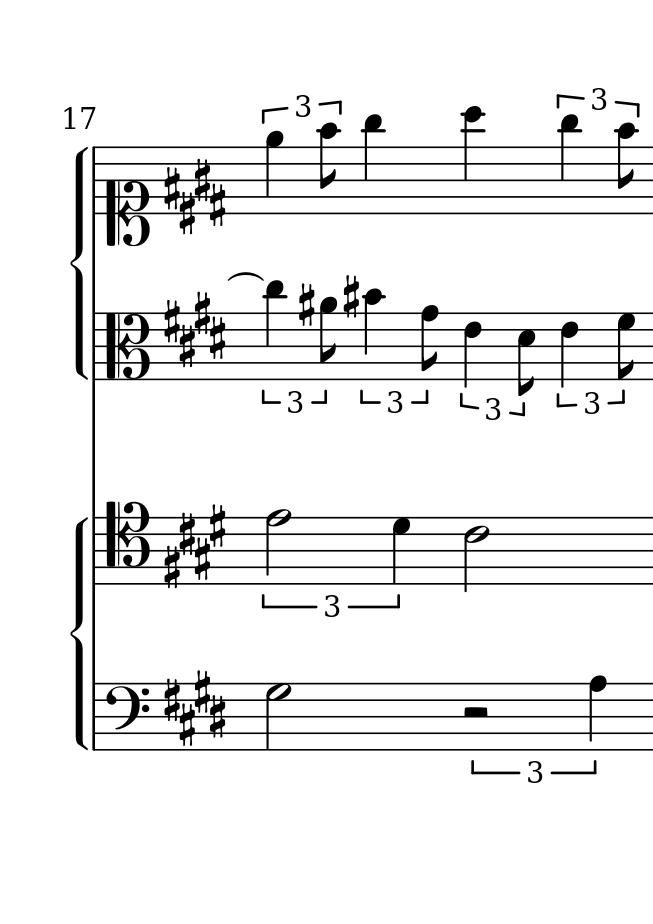1: (62, 105, 76, 133)
2_6: (463, 517, 488, 591)
2_7: (264, 683, 291, 749)
2_8: (264, 505, 289, 588)
4_10: (362, 287, 385, 381)
4_6: (559, 311, 579, 389), (462, 312, 482, 388)
4_7: (391, 515, 412, 587)
4_8: (588, 673, 609, 752)
4_9: (265, 128, 284, 215)
7: (79, 104, 96, 132)
8_10: (616, 121, 639, 216), (318, 122, 341, 216)
8_11: (361, 112, 386, 216), (558, 112, 582, 217), (263, 276, 286, 375)
8_12: (461, 104, 485, 217)
8_5: (516, 311, 536, 398)
8_7: (616, 312, 636, 381)
8_8: (420, 304, 439, 381)
8_9: (318, 296, 338, 382)
Brace: (70, 514, 90, 753), (69, 144, 89, 382)
Cclef: (103, 311, 149, 382)
E_S: (161, 504, 228, 590), (158, 158, 228, 235), (163, 291, 229, 366), (162, 668, 228, 742)
Fclef: (103, 681, 148, 752)
Rests2: (460, 705, 491, 721)
Sharp: (298, 282, 316, 330), (342, 274, 360, 321)
Single_barline: (87, 516, 103, 585), (88, 312, 102, 381), (88, 147, 102, 214), (88, 684, 102, 750)
Slur: (228, 271, 264, 282)
Soprano_Cclef: (105, 149, 149, 246)
Tensor_Cclef: (104, 500, 150, 584)
